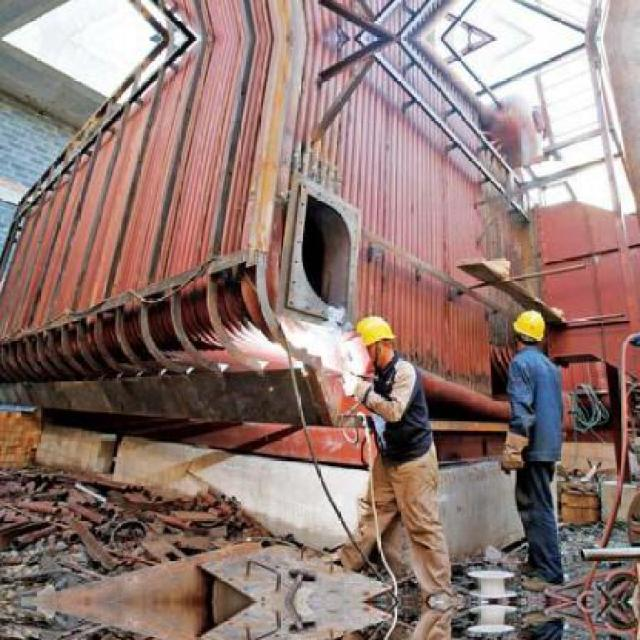helmet: (354, 311, 397, 369), (509, 305, 546, 350)
